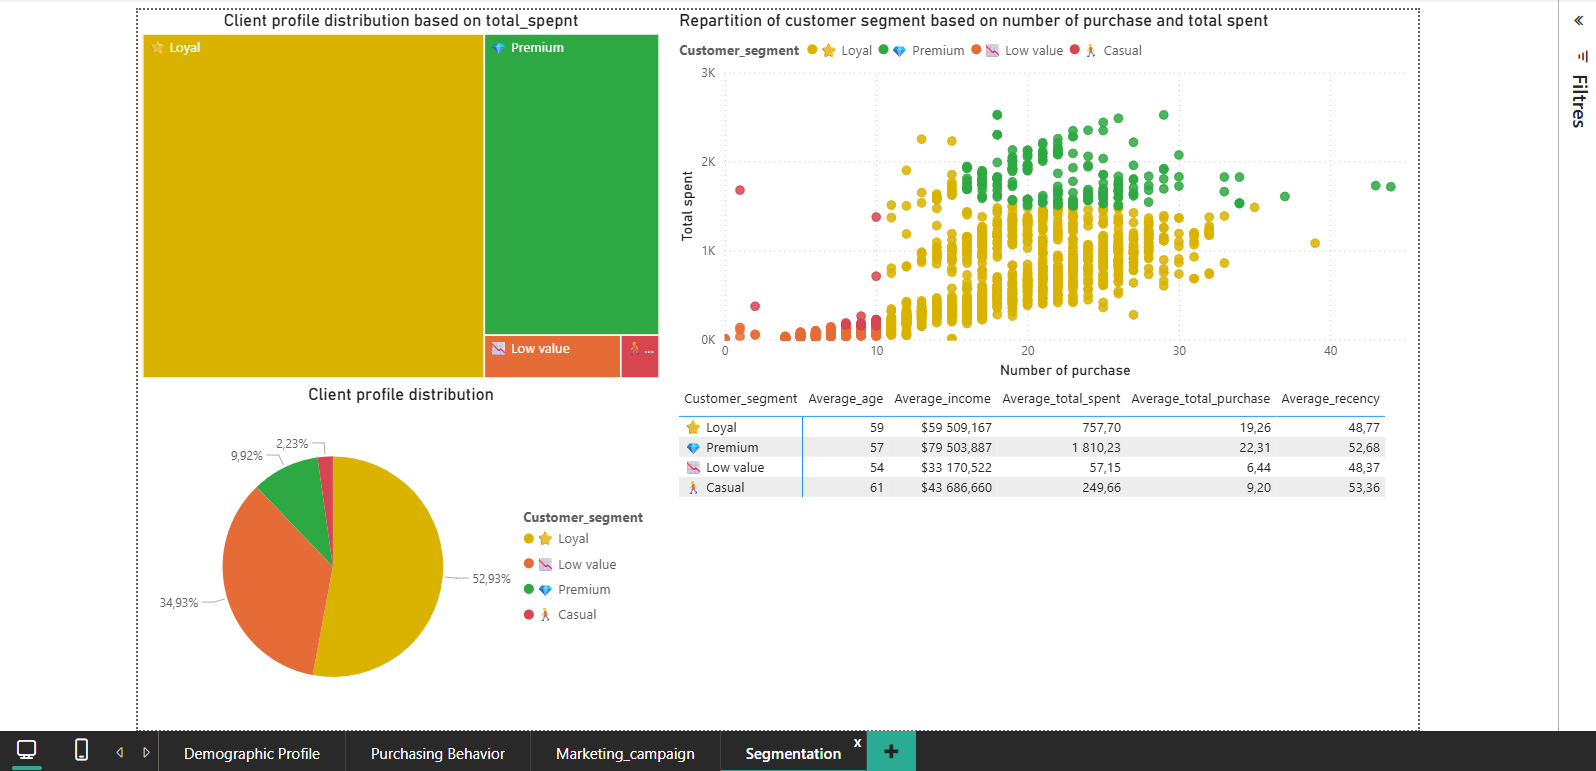

What the dashboard file says about the page in this screenshot:
{"tool":"powerbi","page":{"name":"Segmentation","canvas":[1280,720],"ordinal":3},"visuals":[{"type":"treemap","title":"Client profile distribution based on total_spepnt","fields":{"Group":["fact_cutomer_behavior.Customer_segment"],"Values":["Sum(fact_cutomer_behavior.Total_Spend)"]},"box":[0,0,526.2,373.2],"z":0},{"type":"scatterChart","title":"Repartition of customer segment based on number of purchase and total spent","fields":{"X":["Sum(fact_cutomer_behavior.Total_Purchase)"],"Y":["Sum(fact_cutomer_behavior.Total_Spend)"],"Series":["fact_cutomer_behavior.Customer_segment"],"Category":["fact_cutomer_behavior.ID"]},"box":[536.1,0,743.9,373.2],"z":1000},{"type":"pieChart","title":"Client profile distribution","fields":{"Category":["fact_cutomer_behavior.Customer_segment"],"Y":["CountNonNull(fact_cutomer_behavior.ID)"]},"box":[0,373.2,526.2,347.1],"z":2000},{"type":"pivotTable","fields":{"Rows":["fact_cutomer_behavior.Customer_segment"],"Values":["dim_customer.Average_age","dim_customer.Average_income","fact_cutomer_behavior.Average_total_spent","fact_cutomer_behavior.Average_total_purchase","fact_cutomer_behavior.Average_recency"]},"box":[536,373,744,347],"z":3000}]}

Visuals, with their boxes on the page's 1280x720 design canvas (x1, y1, x2, y2). These are canvas units, not pixel positions in the 1596x771 screenshot, which may show the page scaled, cropped or inside an application window:
"Client profile distribution based on total_spepnt" treemap: l=0, t=0, r=526, b=373
"Repartition of customer segment based on number of purchase and total spent" scatterChart: l=536, t=0, r=1280, b=373
"Client profile distribution" pieChart: l=0, t=373, r=526, b=720
pivotTable - fact_cutomer_behavior.Customer_segment x dim_customer.Average_age: l=536, t=373, r=1280, b=720
